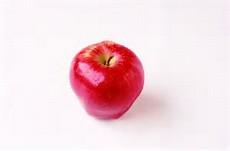apple: (67, 37, 143, 120)
